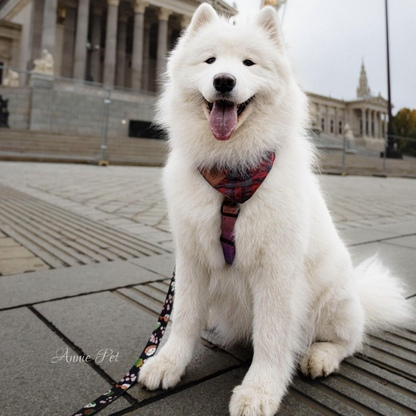samoyed: (131, 1, 413, 416)
